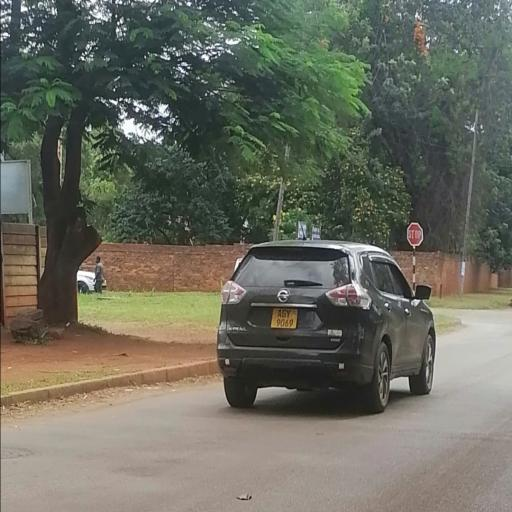number-plates: (270, 303, 300, 330)
